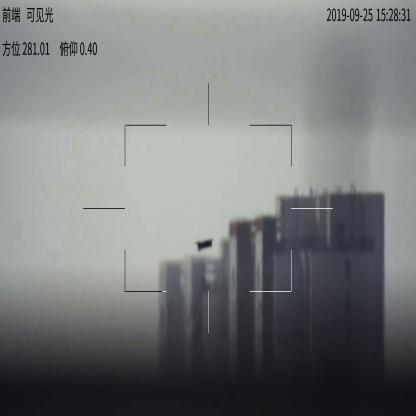uav: (195, 237, 212, 251)
